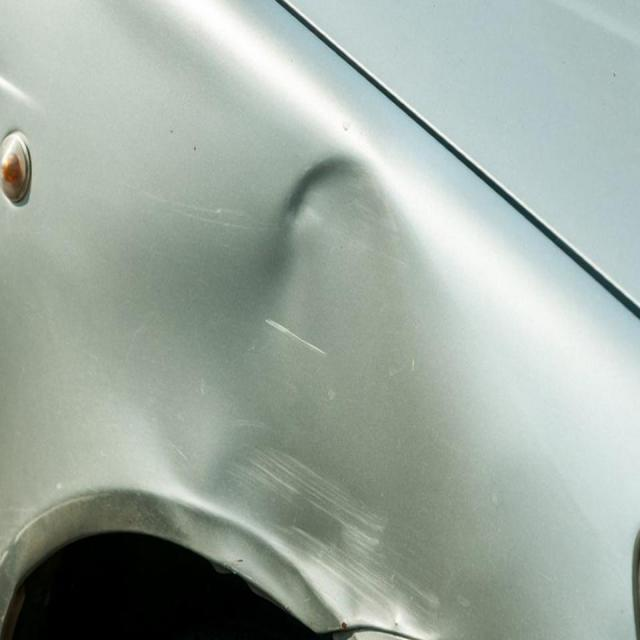dent: (270, 127, 420, 445)
